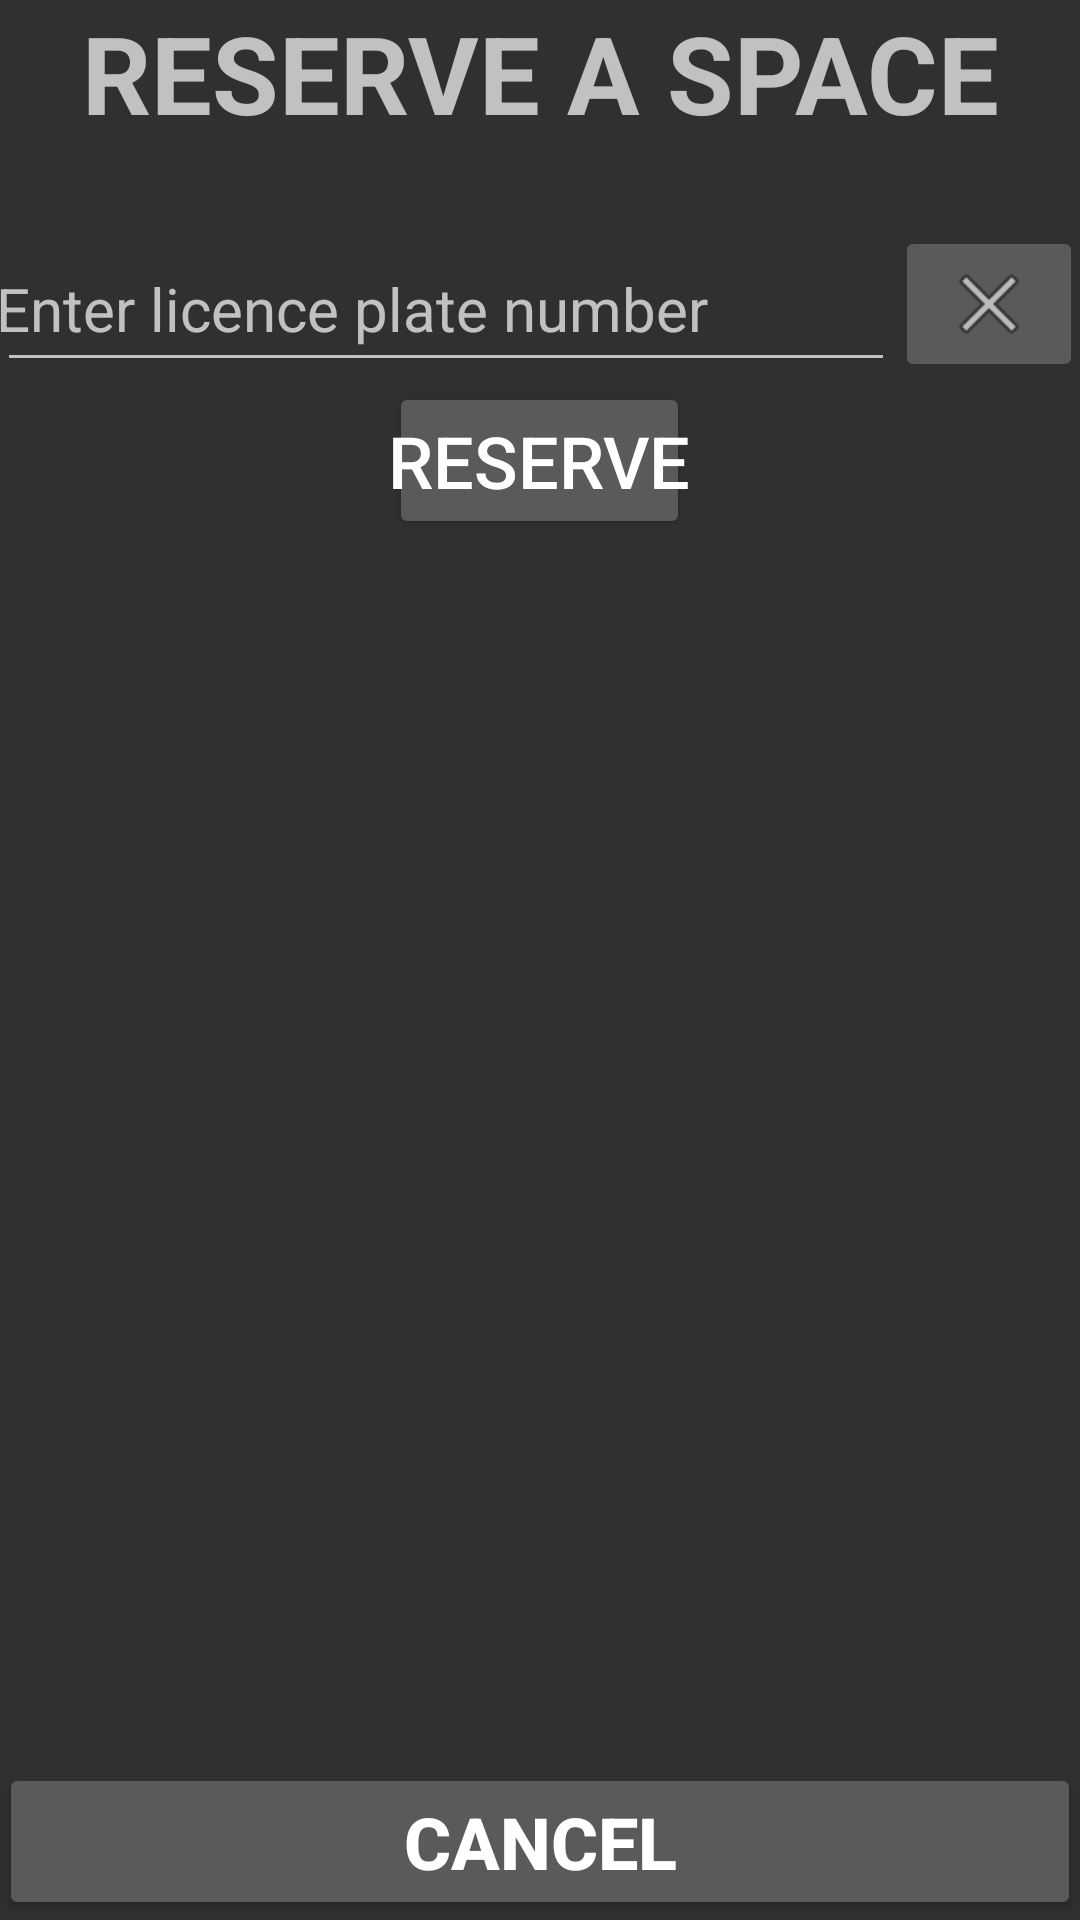

Icon bounding boxes for this 1080px x 1920px phone screenshot, format {"left": x1, "top": y1, "right": x2, "bottom": y2}:
Clears input text: {"left": 907, "top": 244, "right": 1071, "bottom": 364}
